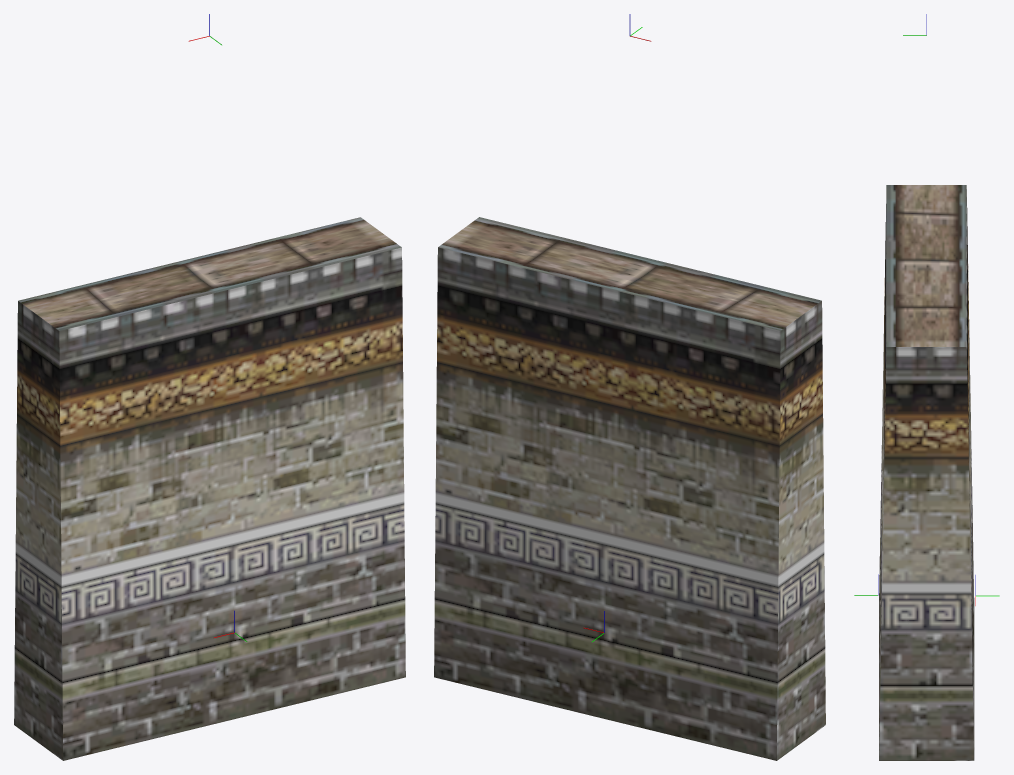
File: greek-wall-short.glb
3 views of the same model, side by side, from view 1: azimuth 30°, elevation 25°; view 2: azimuth 150°, elevation 25°; view 3: azimuth 270°, elevation 25° (orthographic). The views are drawn at different scales.
Visible parts, largest first — view 1: building g wall shortModel; view 2: building g wall shortModel; view 3: building g wall shortModel.
Boxes of the visible parts, left/top/right/bottom form: building g wall shortModel: left=14, top=217, right=405, bottom=760; building g wall shortModel: left=434, top=217, right=825, bottom=760; building g wall shortModel: left=879, top=185, right=974, bottom=760.
Bounding box in the file's own units: 4.03 × 7.72 × 1.53.
Materials: 3 (2 with a texture image).
